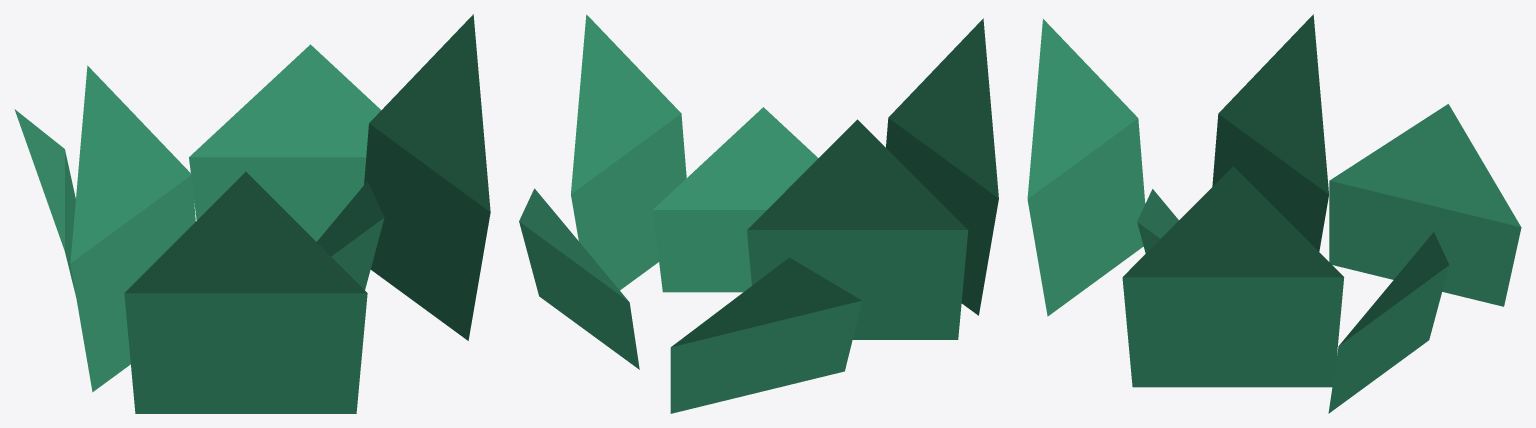
The model's file is grass.obj.
3 renders of one model, left to right at view 1: azimuth 30°, elevation 25°; view 2: azimuth 150°, elevation 25°; view 3: azimuth 270°, elevation 25°, orthographic. The views are drawn at different scales.
Size of the model in its own units: 0.2345 by 0.1425 by 0.2573.
